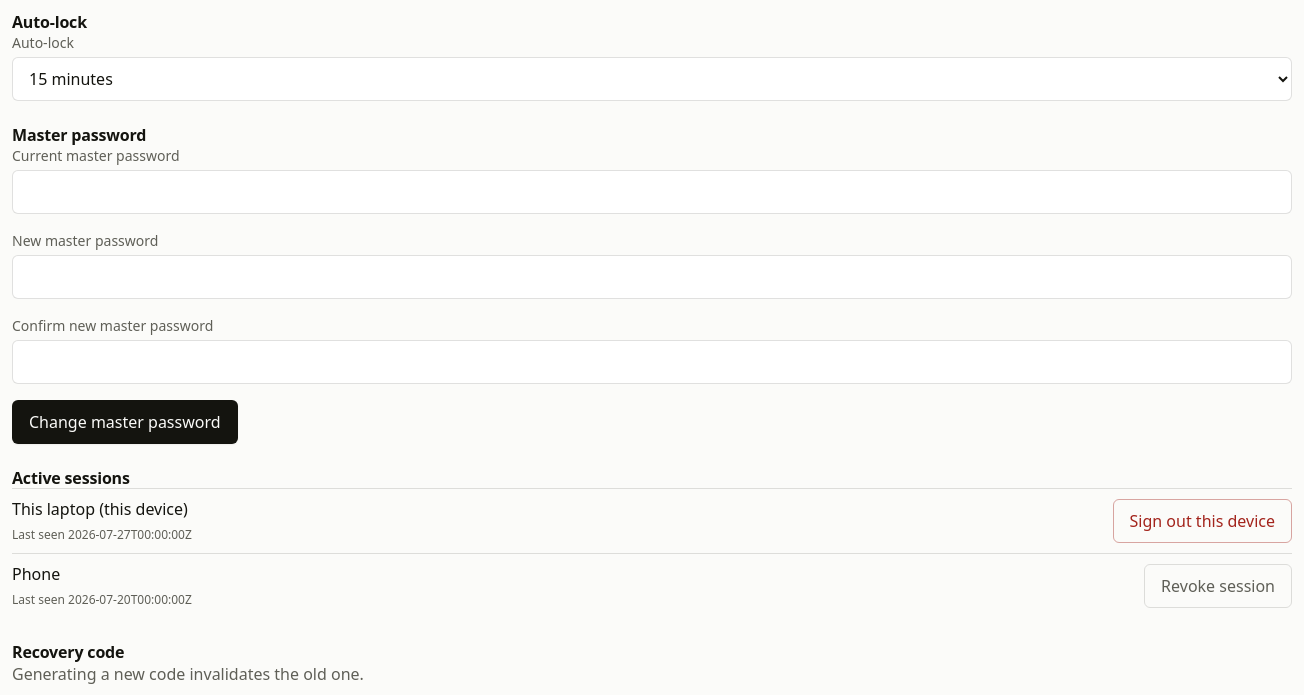
Scenario: SettingsScreen auto-lock › warns that the vault stays open until the tab or browser closes when set to never
Expected: the text "stays unlocked until you close" is not shown
Select "Never" in the dropdown labelled "Auto-lock": [652, 79] box [12,57,1292,101]
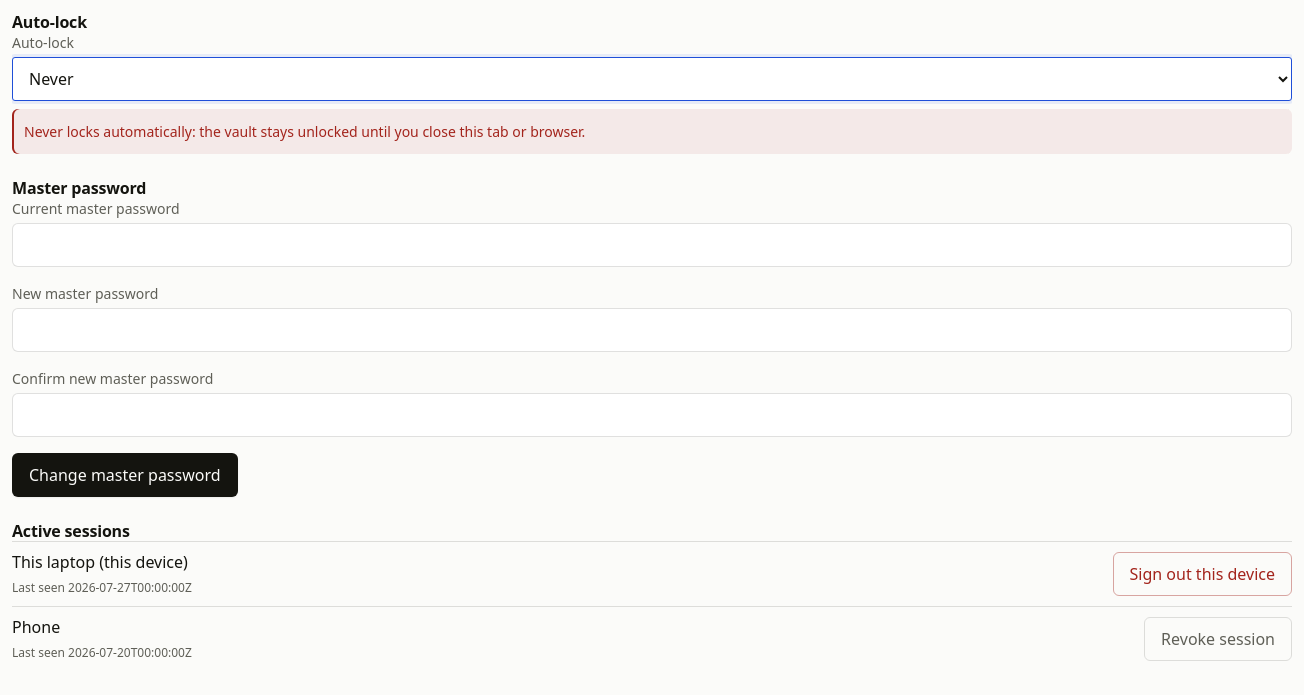
Expected: the text "stays unlocked until you close" is shown, [24,122,585,141]
